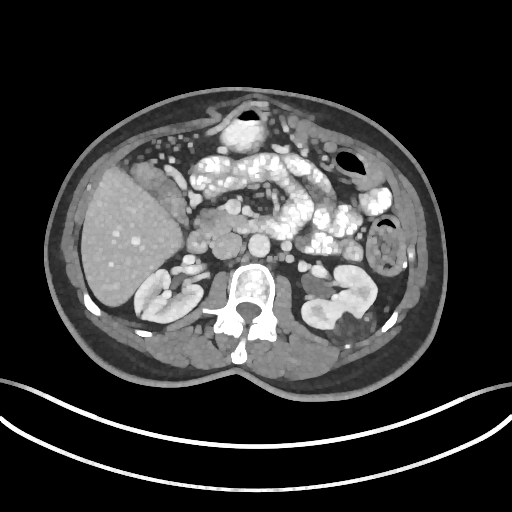Lesion: (325, 314, 377, 345)
